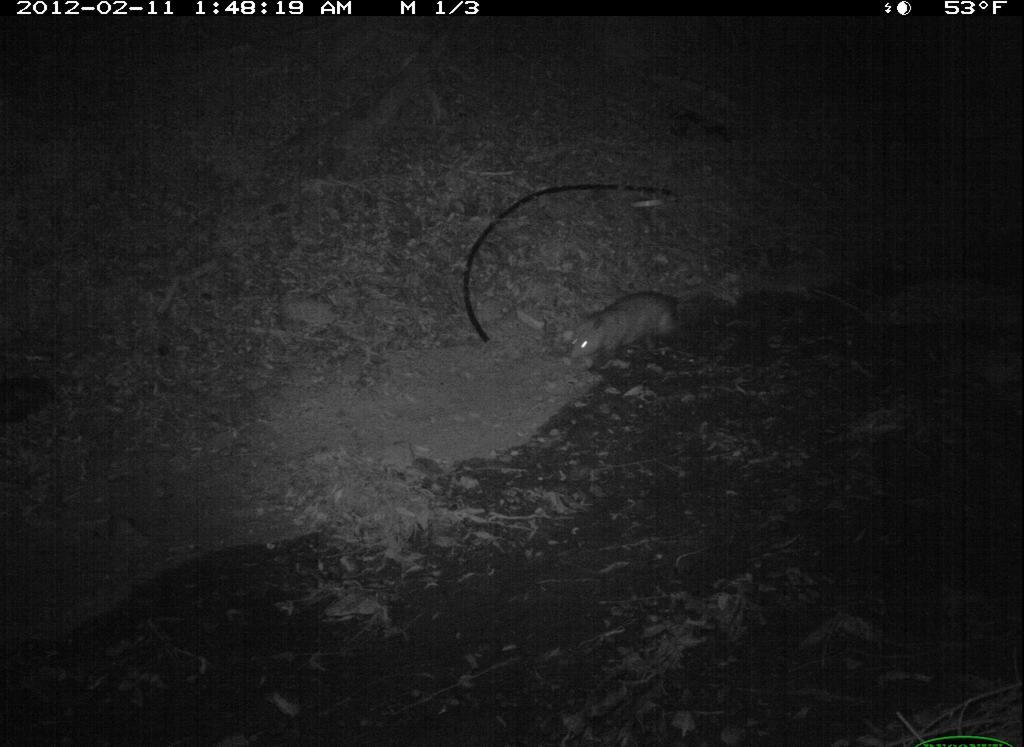opossum: (560, 286, 724, 376)
